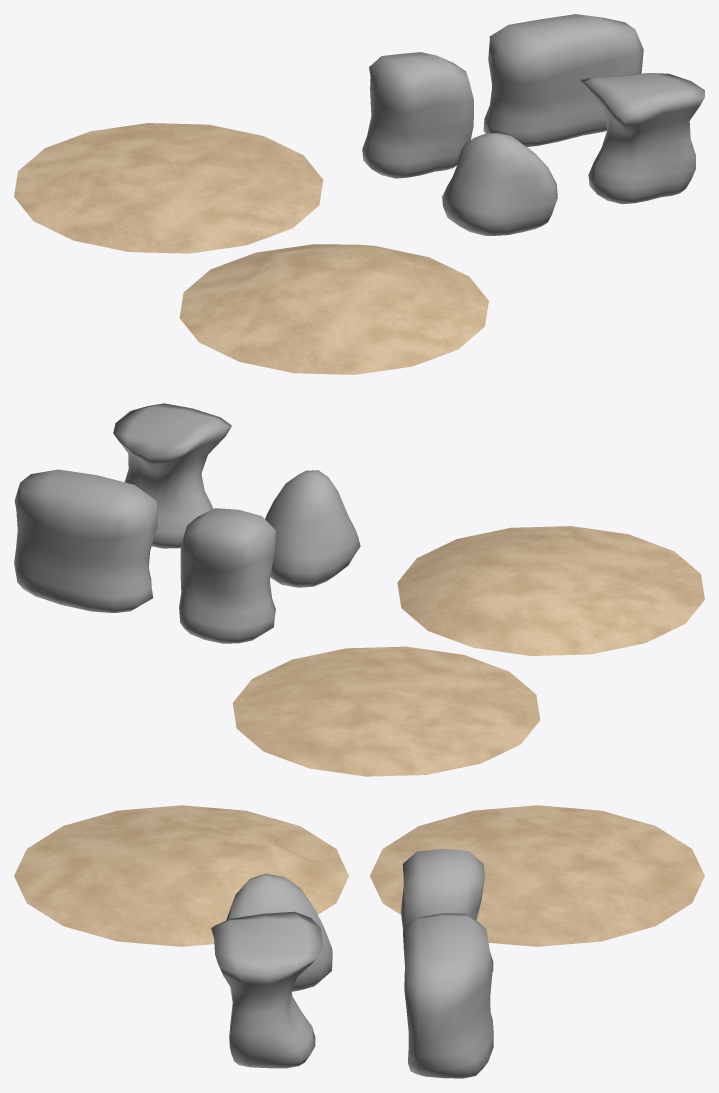
Rendered from MapPack01.fbx.
3 views of the same model, one above another, from view 1: azimuth 30°, elevation 25°; view 2: azimuth 150°, elevation 25°; view 3: azimuth 270°, elevation 25° (orthographic). The views are drawn at different scales.
Visible parts, largest first — view 1: SandPatch2, SandPatch1, Rock02, Rock04, Rock01, Rock03; view 2: SandPatch1, SandPatch2, Rock02, Rock01, Rock04, Rock03; view 3: SandPatch2, SandPatch1, Rock02, Rock04, Rock01, Rock03.
Part boxes in pixels (<box>): SandPatch2: <box>179,244,488,374</box>; SandPatch1: <box>14,123,323,253</box>; Rock02: <box>483,14,643,146</box>; Rock04: <box>580,73,704,204</box>; Rock01: <box>362,52,473,178</box>; Rock03: <box>442,133,557,235</box>; SandPatch1: <box>232,646,540,776</box>; SandPatch2: <box>397,526,704,655</box>; Rock02: <box>14,469,157,612</box>; Rock01: <box>179,508,277,643</box>; Rock04: <box>113,403,231,548</box>; Rock03: <box>265,470,360,587</box>; SandPatch2: <box>14,805,348,946</box>; SandPatch1: <box>370,805,704,946</box>; Rock02: <box>403,913,493,1078</box>; Rock04: <box>211,911,323,1068</box>; Rock01: <box>400,849,493,971</box>; Rock03: <box>223,873,332,991</box>.
Size of the model in its own units: 90.07 by 17.94 by 90.37.
